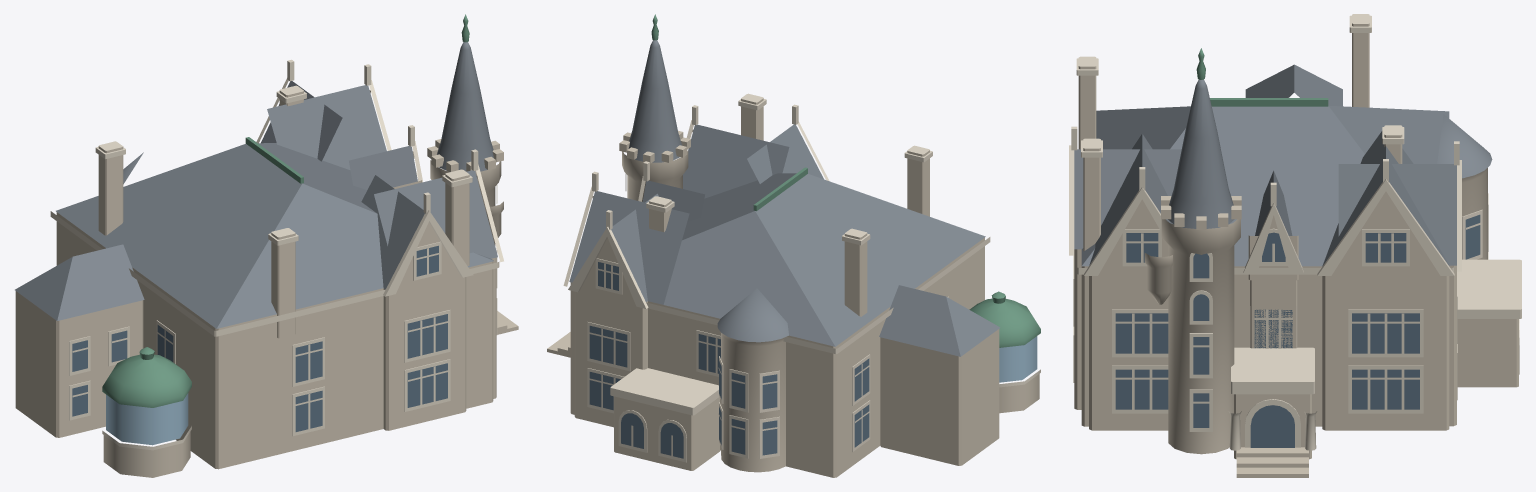
The model's file is msp-american-swedish-institute.glb.
3 views of the same model, side by side, from view 1: azimuth 30°, elevation 25°; view 2: azimuth 150°, elevation 25°; view 3: azimuth 270°, elevation 25° (orthographic). The views are drawn at different scales.
Visible parts, largest first — view 1: msp-american-swedish-institute; view 2: msp-american-swedish-institute; view 3: msp-american-swedish-institute.
Part boxes in pixels (left/top/right/bottom): msp-american-swedish-institute: left=15, top=14, right=518, bottom=477; msp-american-swedish-institute: left=547, top=14, right=1040, bottom=477; msp-american-swedish-institute: left=1069, top=14, right=1521, bottom=477.
Size of the model in its own units: 40.8 by 29.3 by 30.65.
